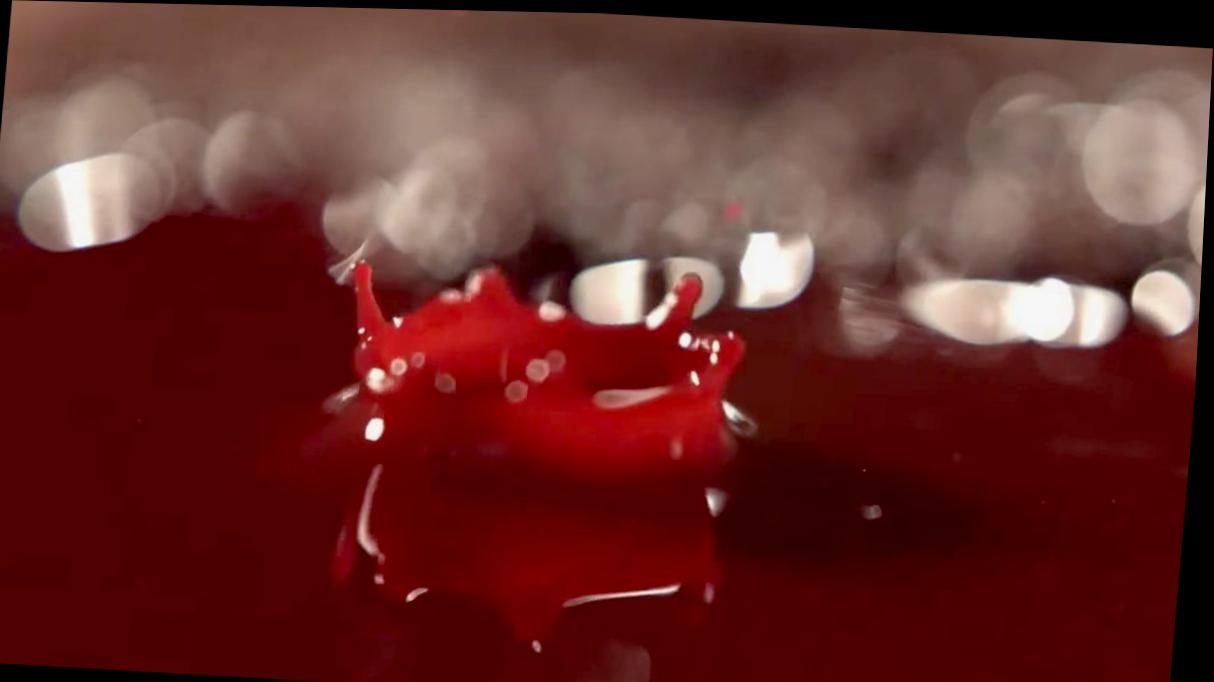Fire: (0, 203, 1201, 682)
